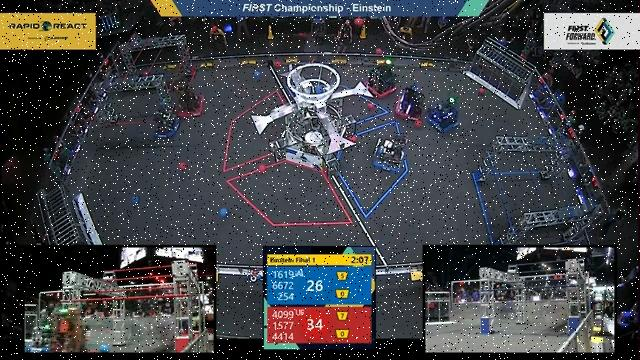Robot: (363, 131, 412, 179), (423, 91, 468, 141), (356, 59, 400, 100), (144, 106, 186, 145), (173, 83, 210, 119), (393, 85, 426, 123)
